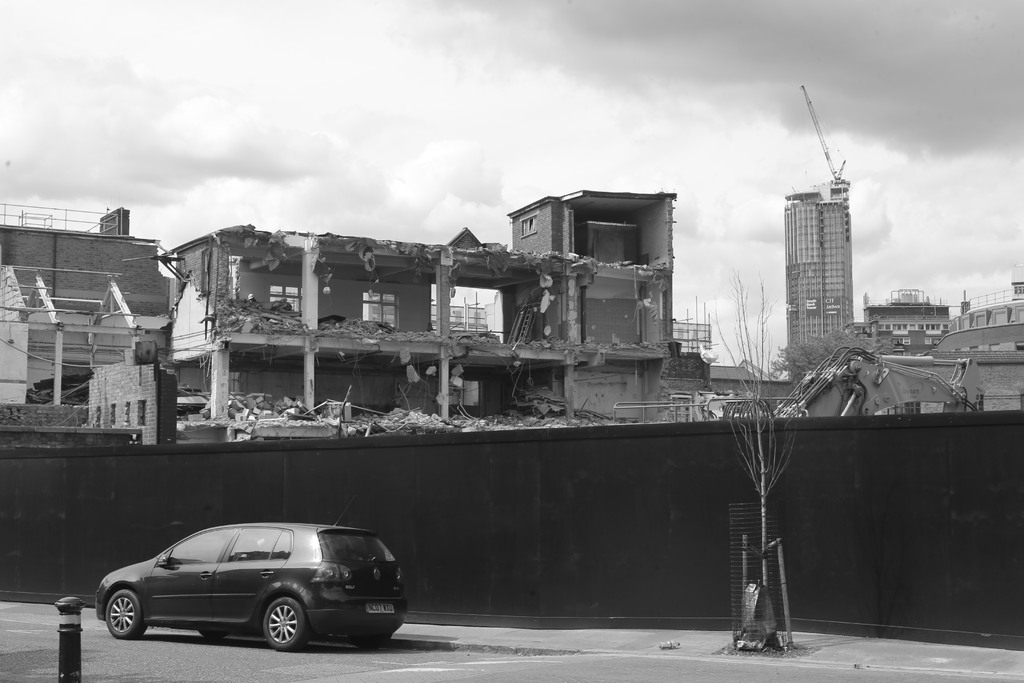mobil: (94, 520, 409, 650)
